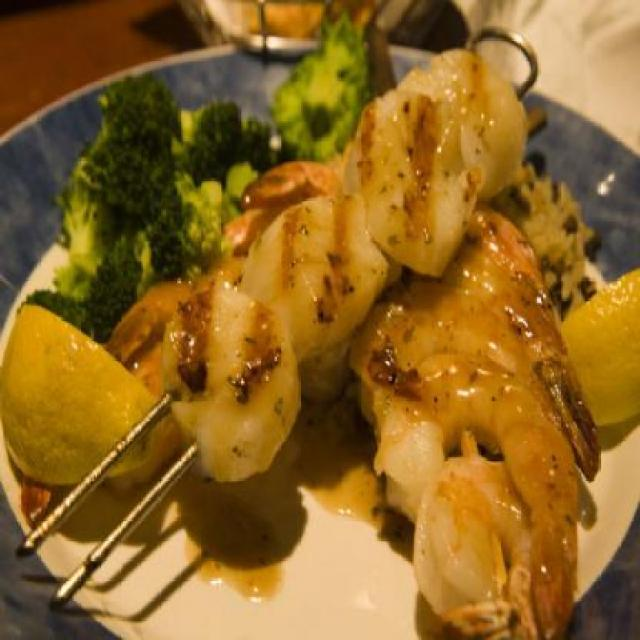Broccoli: (17, 14, 369, 346)
